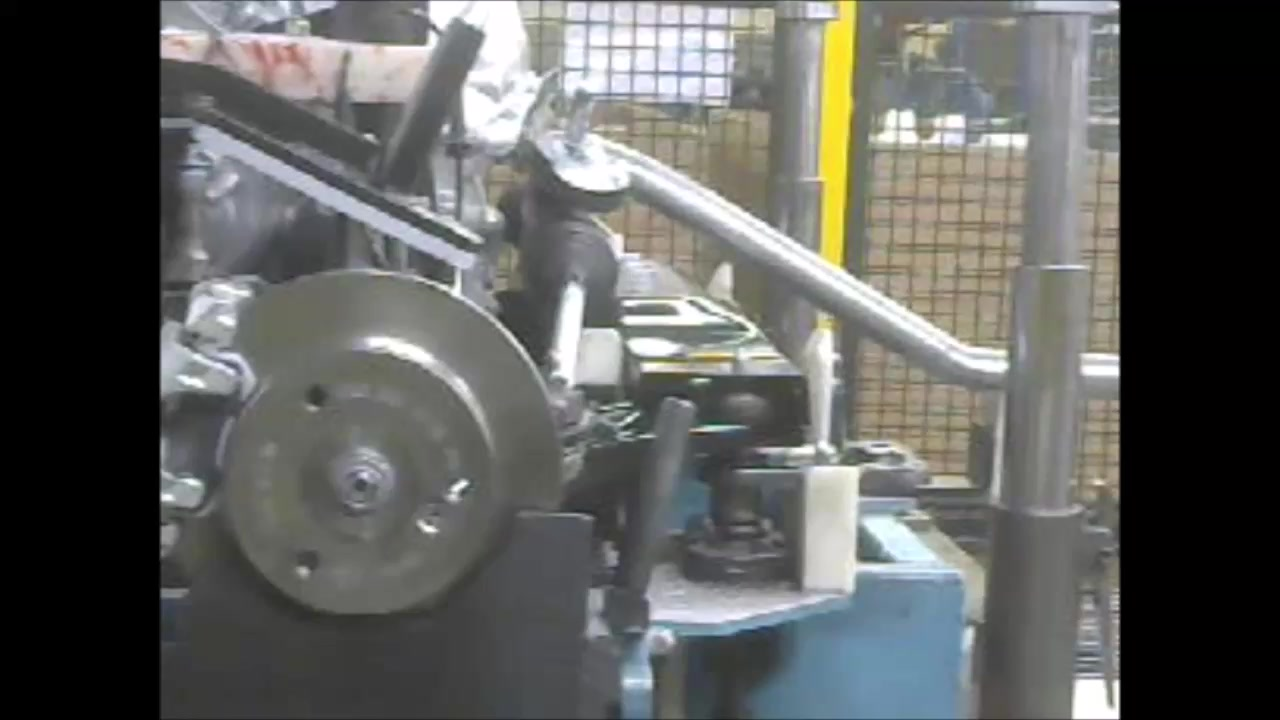DD1: (257, 269, 567, 618)
P1: (165, 270, 253, 566)
